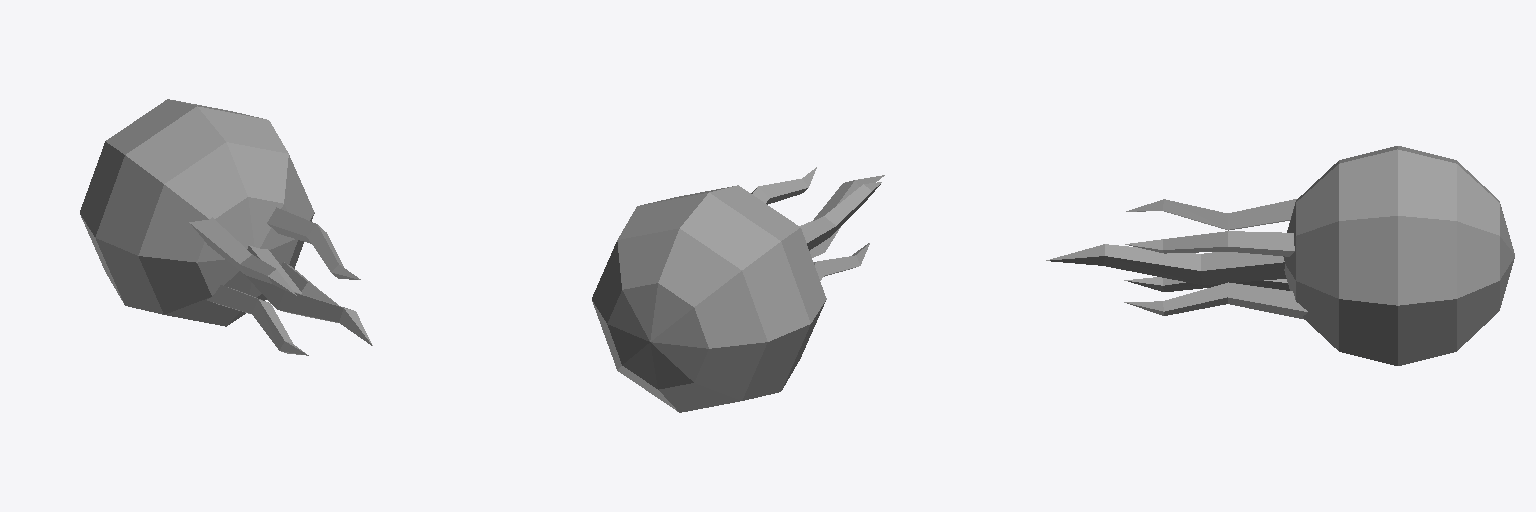
File: DemonicEye2.obj
The picture shows the model from 3 angles: view 1: azimuth 30°, elevation 25°; view 2: azimuth 150°, elevation 25°; view 3: azimuth 270°, elevation 25°; orthographic projection.
Parts seen in each view (by area): view 1: default; view 2: default; view 3: default.
Part boxes in pixels (bbox=[...]): default: bbox=[80, 99, 372, 355]; default: bbox=[592, 167, 884, 412]; default: bbox=[1046, 146, 1514, 365].
Size of the model in its own units: 31.2 by 31.2 by 62.44.